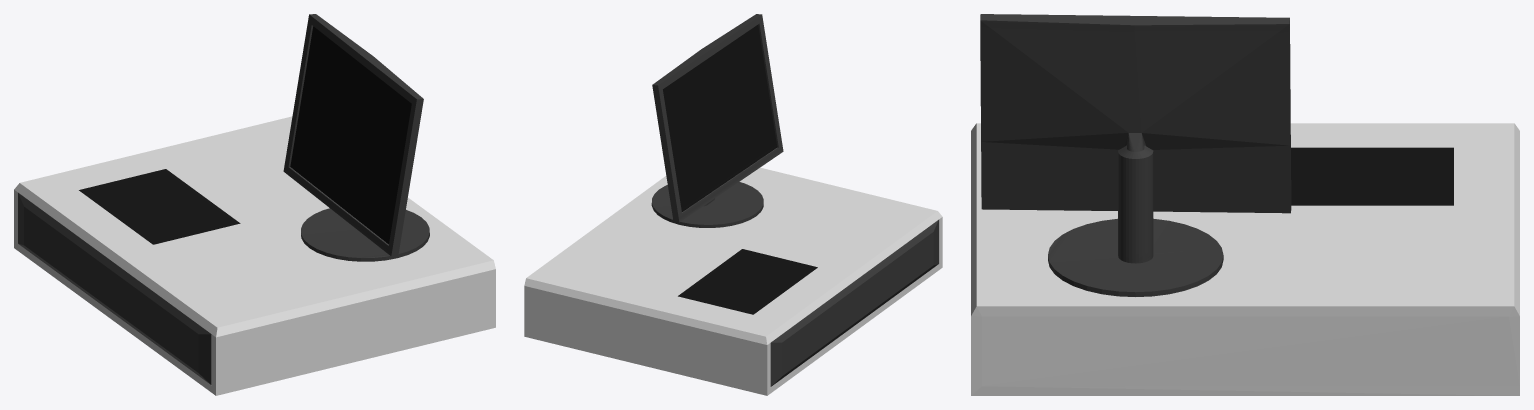
The picture shows the model from 3 angles, left to right: view 1: azimuth 30°, elevation 25°; view 2: azimuth 150°, elevation 25°; view 3: azimuth 270°, elevation 25°; orthographic projection. The views are drawn at different scales.
Parts seen in each view (by area): view 1: Body, Box; view 2: Body, Box; view 3: Body.
Boxes of the visible parts, left/top/right/bottom form: Body: left=14, top=14, right=495, bottom=395; Box: left=18, top=192, right=211, bottom=385; Body: left=524, top=14, right=942, bottom=395; Box: left=770, top=219, right=938, bottom=386; Body: left=971, top=14, right=1519, bottom=395.
Bounding box in the file's own units: 1.79 × 1.48 × 2.21.
Materials: 1 (1 with a texture image).
